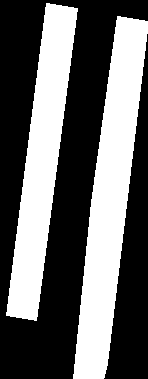parkingspot: (73, 16, 148, 379), (6, 3, 77, 320)
